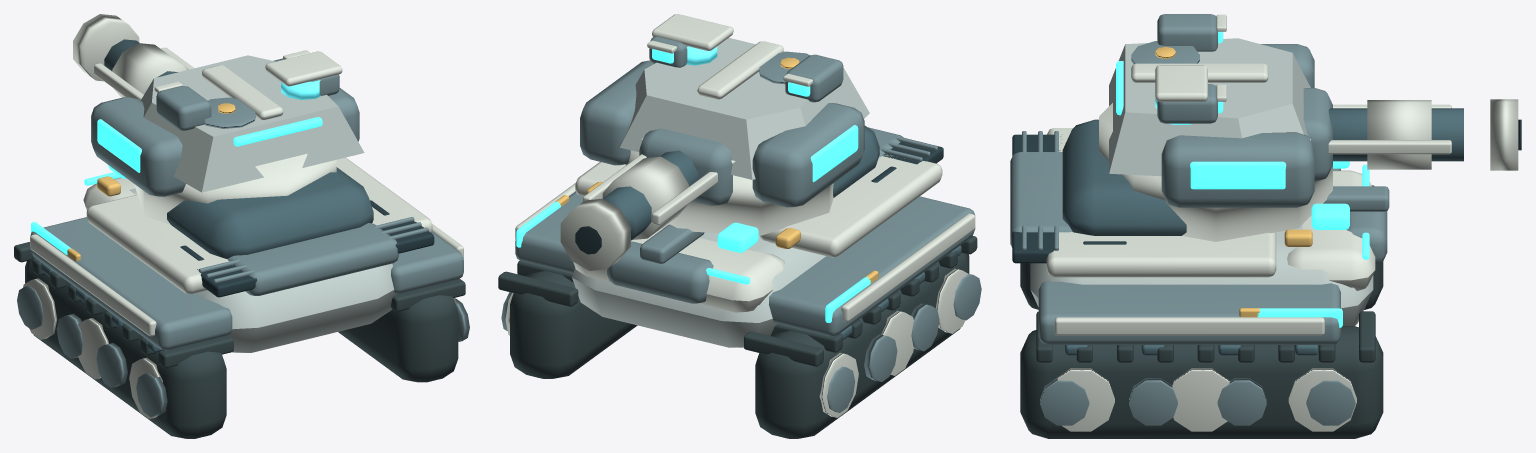
Rendered from striker-tank.glb.
The picture shows the model from 3 angles, left to right: view 1: azimuth 30°, elevation 25°; view 2: azimuth 150°, elevation 25°; view 3: azimuth 270°, elevation 25°; orthographic projection. The views are drawn at different scales.
Parts seen in each view (by area): view 1: Rotating turret assembly, Glacis center armor, Continuous tank tread, Wheel hub, Sloped heavy hull, Rear cooling grille, Glacis team chevron, Track skirt warning tab; view 2: Rotating turret assembly, Glacis center armor, Continuous tank tread, Wheel hub, Sloped heavy hull, Glacis team chevron, Rear cooling grille, Track skirt warning tab; view 3: Rotating turret assembly, Glacis center armor, Wheel hub, Continuous tank tread, Sloped heavy hull, Rear cooling grille, Glacis team chevron, Tread cleat, Track skirt warning tab.
Boxes of the visible parts, left/top/right/bottom form: Rotating turret assembly: left=73, top=14, right=373, bottom=258; Glacis center armor: left=17, top=217, right=469, bottom=416; Continuous tank tread: left=14, top=242, right=465, bottom=438; Wheel hub: left=23, top=157, right=463, bottom=419; Sloped heavy hull: left=129, top=188, right=396, bottom=352; Rear cooling grille: left=180, top=200, right=434, bottom=297; Glacis team chevron: left=31, top=172, right=120, bottom=254; Track skirt warning tab: left=67, top=176, right=120, bottom=261; Rotating turret assembly: left=560, top=14, right=879, bottom=270; Glacis center armor: left=501, top=127, right=981, bottom=412; Continuous tank tread: left=498, top=236, right=977, bottom=438; Wheel hub: left=505, top=154, right=975, bottom=417; Sloped heavy hull: left=572, top=225, right=825, bottom=347; Glacis team chevron: left=516, top=201, right=870, bottom=322; Rear cooling grille: left=871, top=138, right=943, bottom=182; Track skirt warning tab: left=555, top=181, right=878, bottom=283; Rotating turret assembly: left=1062, top=14, right=1521, bottom=241; Glacis center armor: left=1010, top=131, right=1389, bottom=425; Wheel hub: left=1046, top=128, right=1375, bottom=431; Continuous tank tread: left=1020, top=185, right=1383, bottom=438; Sloped heavy hull: left=1030, top=225, right=1373, bottom=326; Rear cooling grille: left=1012, top=134, right=1126, bottom=263; Glacis team chevron: left=1257, top=164, right=1369, bottom=327; Tread cleat: left=1065, top=345, right=1318, bottom=355; Track skirt warning tab: left=1239, top=229, right=1312, bottom=317.
Size of the model in its own units: 1.01 by 0.8775 by 1.27.
